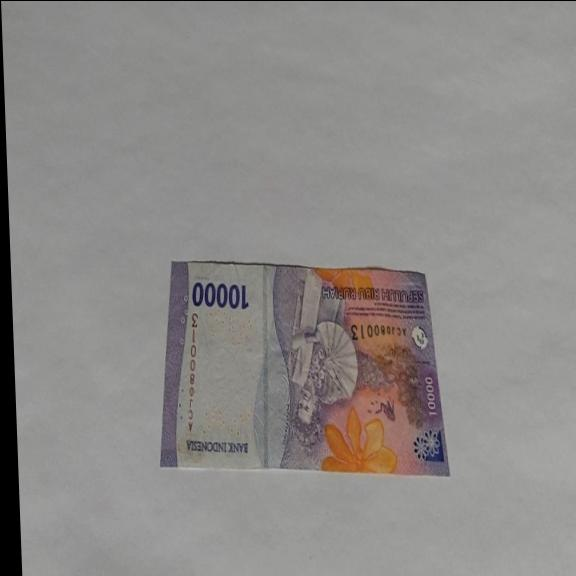Kertas: (152, 260, 450, 477), (190, 280, 250, 312)
